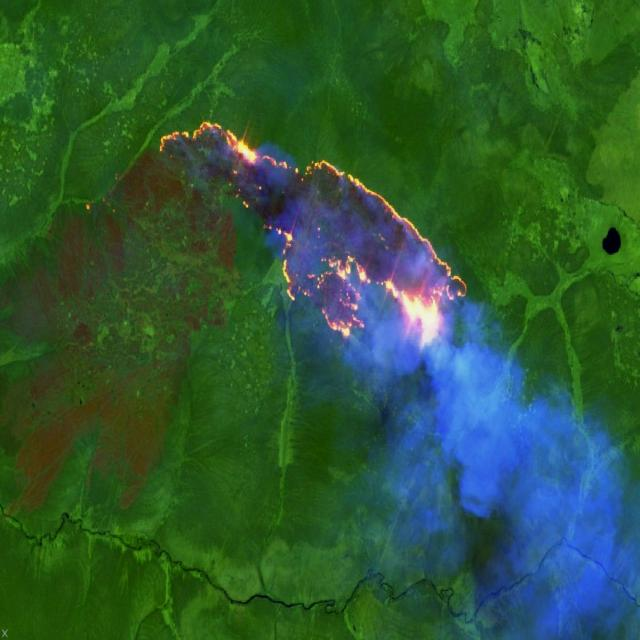fire: (156, 109, 474, 373)
